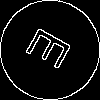E: (25, 25, 81, 77)
